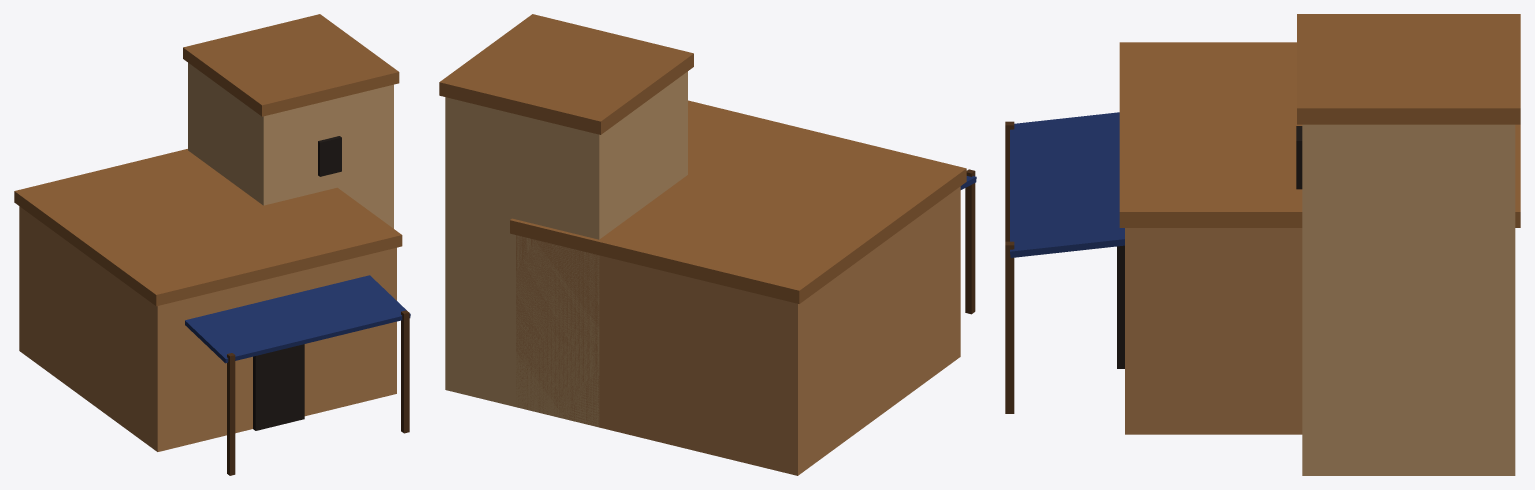
File: fennec_house_c.glb
3 renders of one model, left to right at view 1: azimuth 30°, elevation 25°; view 2: azimuth 150°, elevation 25°; view 3: azimuth 270°, elevation 25°, orthographic. The views are drawn at different scales.
Parts seen in each view (by area): view 1: fennec_house_c; view 2: fennec_house_c; view 3: fennec_house_c.
Part boxes in pixels (x1=…): fennec_house_c: x1=14, y1=14, x2=410, y2=475; fennec_house_c: x1=439, y1=14, x2=976, y2=475; fennec_house_c: x1=1005, y1=14, x2=1520, y2=475.
Bounding box in the file's own units: 2.81 × 2.3 × 2.9.
